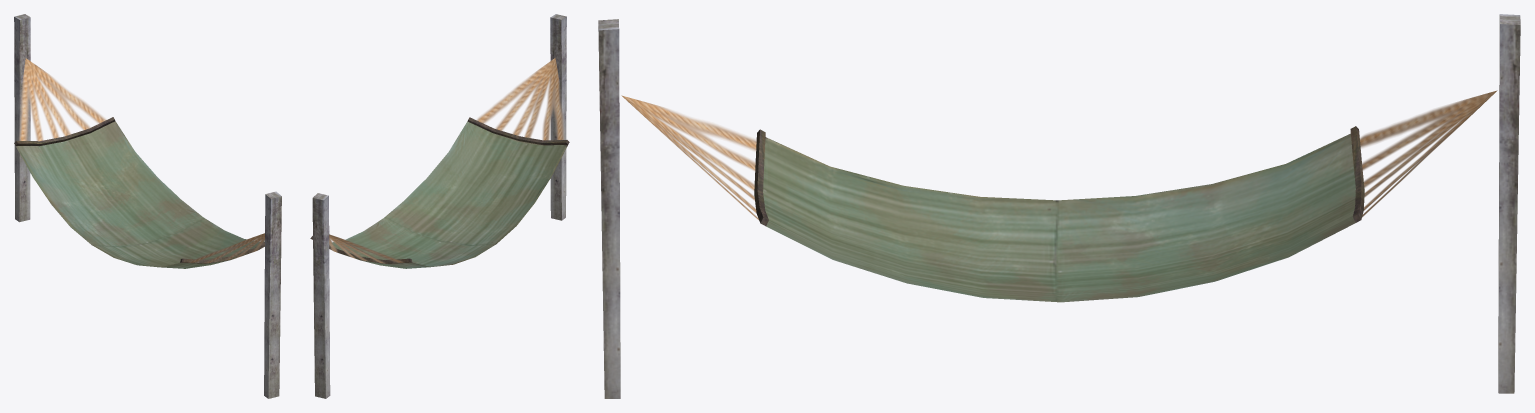
Rendered from lezaljka.glb.
3 views of the same model, side by side, from view 1: azimuth 30°, elevation 25°; view 2: azimuth 150°, elevation 25°; view 3: azimuth 270°, elevation 25° (orthographic). The views are drawn at different scales.
Parts seen in each view (by area): view 1: Hammock_1_aiStandardSurface5_0, Hammock_2_aiStandardSurface5_0; view 2: Hammock_1_aiStandardSurface5_0, Hammock_2_aiStandardSurface5_0; view 3: Hammock_1_aiStandardSurface5_0, Hammock_2_aiStandardSurface5_0.
Part boxes in pixels (<box>): Hammock_1_aiStandardSurface5_0: <box>14,14,280,397</box>; Hammock_2_aiStandardSurface5_0: <box>14,17,281,398</box>; Hammock_1_aiStandardSurface5_0: <box>311,15,567,291</box>; Hammock_2_aiStandardSurface5_0: <box>310,14,569,398</box>; Hammock_1_aiStandardSurface5_0: <box>598,14,1520,398</box>; Hammock_2_aiStandardSurface5_0: <box>598,25,1499,398</box>.
Size of the model in its own units: 35.49 by 60.67 by 137.
1 material, 1 textured.
